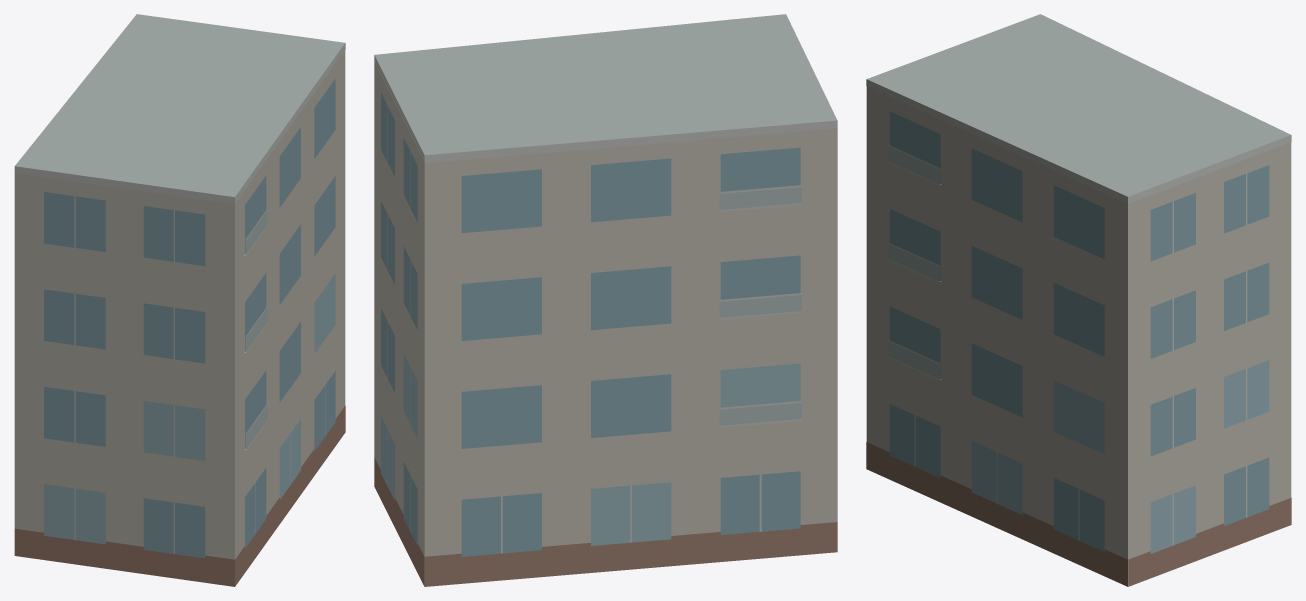
Rendered from survey-upis-32826345.glb.
3 views of the same model, side by side, from view 1: azimuth 30°, elevation 25°; view 2: azimuth 150°, elevation 25°; view 3: azimuth 270°, elevation 25° (orthographic). The views are drawn at different scales.
Parts seen in each view (by area): view 1: survey-upis-32826345.tmp; view 2: survey-upis-32826345.tmp; view 3: survey-upis-32826345.tmp.
Boxes of the visible parts, x1=… form: survey-upis-32826345.tmp: x1=14, y1=14, x2=345, y2=586; survey-upis-32826345.tmp: x1=374, y1=14, x2=837, y2=586; survey-upis-32826345.tmp: x1=866, y1=14, x2=1291, y2=586.
Size of the model in its own units: 13.46 by 13.38 by 13.22.
